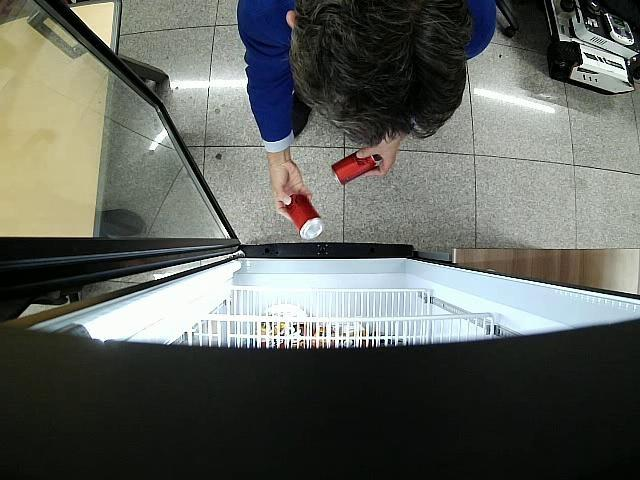11_cocaColaZero: (286, 194, 322, 240), (332, 152, 377, 186)
